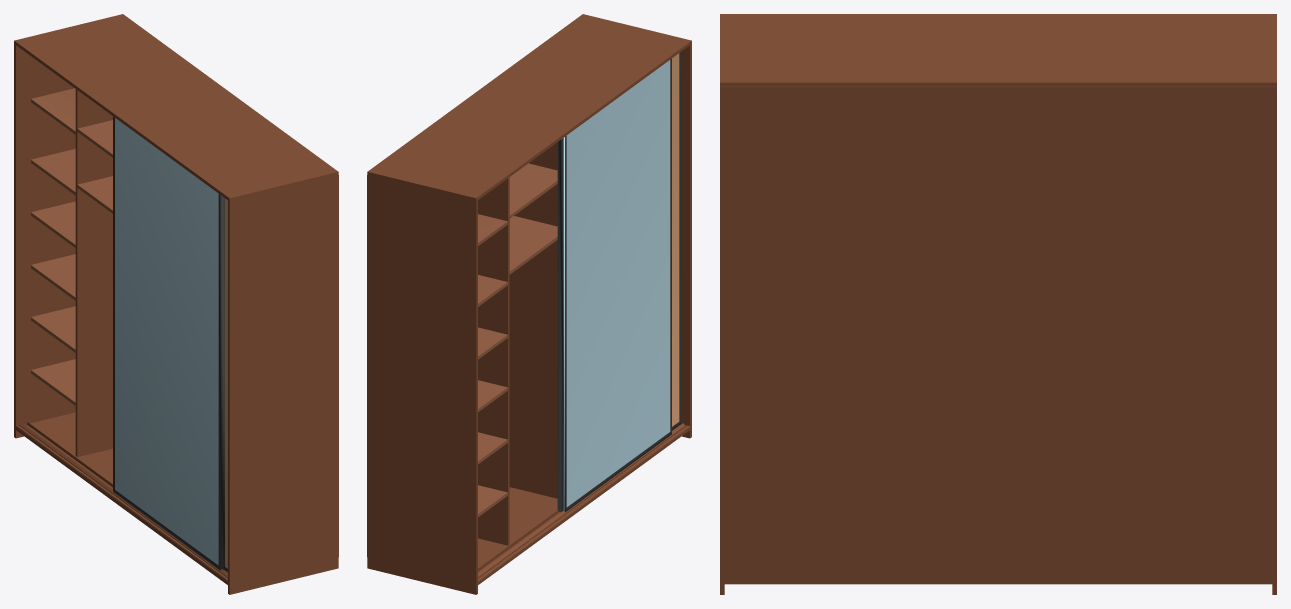
File: Wardrobe.fbx
The picture shows the model from 3 angles, left to right: view 1: azimuth 30°, elevation 25°; view 2: azimuth 150°, elevation 25°; view 3: azimuth 270°, elevation 25°; orthographic projection. The views are drawn at different scales.
Visible parts, largest first — view 1: wardrobe; view 2: wardrobe; view 3: wardrobe.
Boxes of the visible parts, bbox=[...] form: wardrobe: bbox=[14, 14, 338, 594]; wardrobe: bbox=[367, 14, 691, 594]; wardrobe: bbox=[720, 14, 1276, 594].
Size of the model in its own units: 156 by 543 by 535.
1 material, 1 textured.
